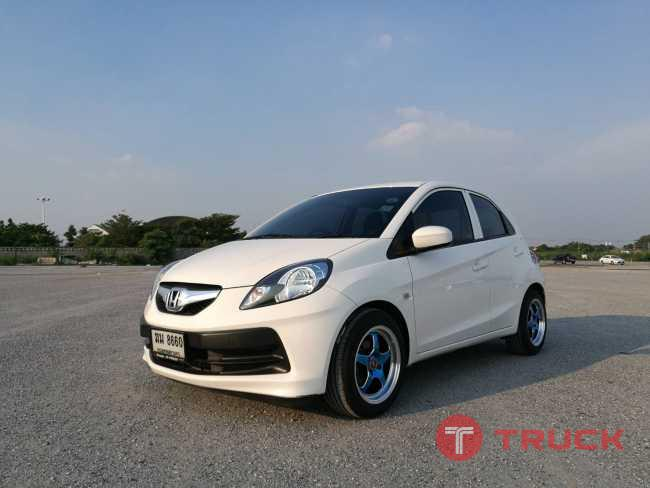sedan: (139, 179, 550, 420)
